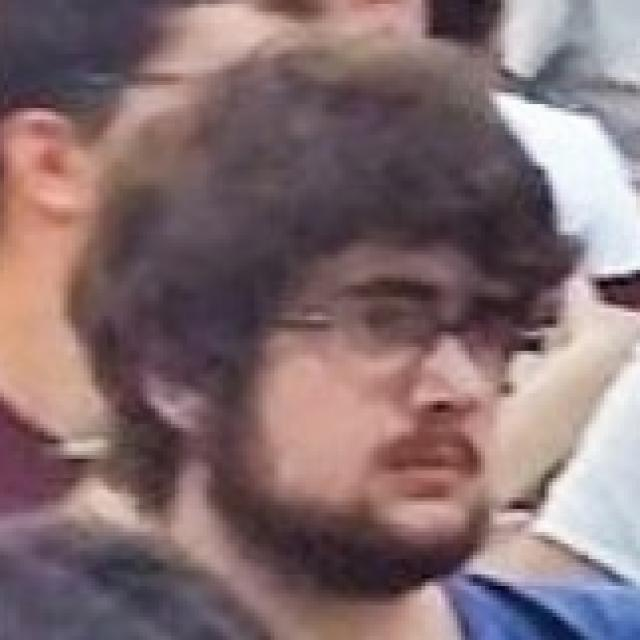Looking forward: (268, 240, 515, 573)
